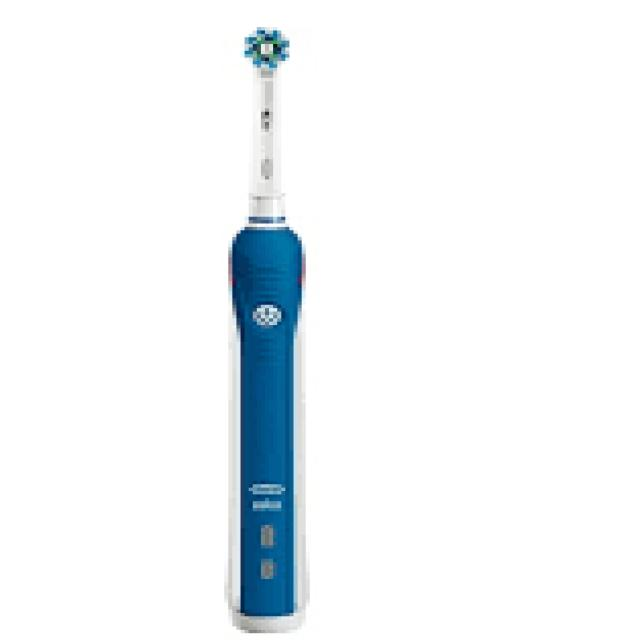organic: (197, 19, 360, 625)
